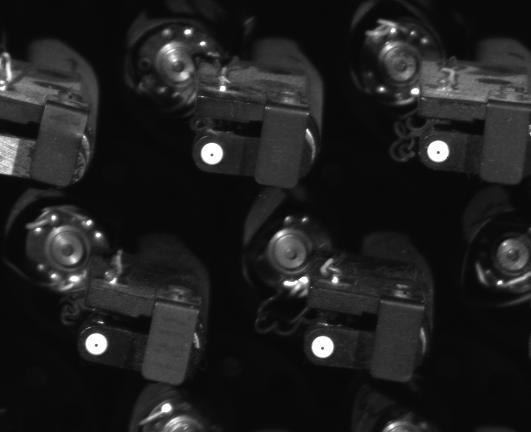fiber: (81, 324, 112, 362), (307, 331, 343, 362), (423, 136, 456, 168), (197, 140, 225, 170)
